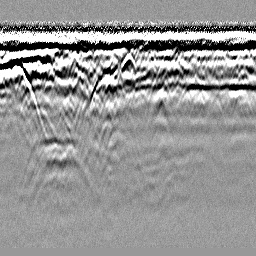cavity: (119, 50, 138, 73)
